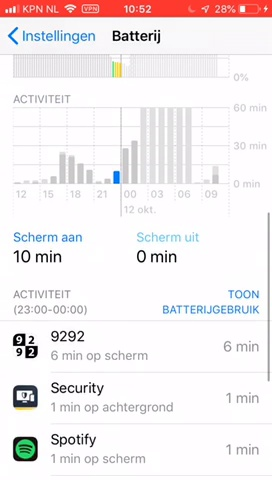activity: (8, 286, 93, 316)
app: (8, 328, 265, 367), (8, 378, 265, 417), (8, 427, 265, 466)
